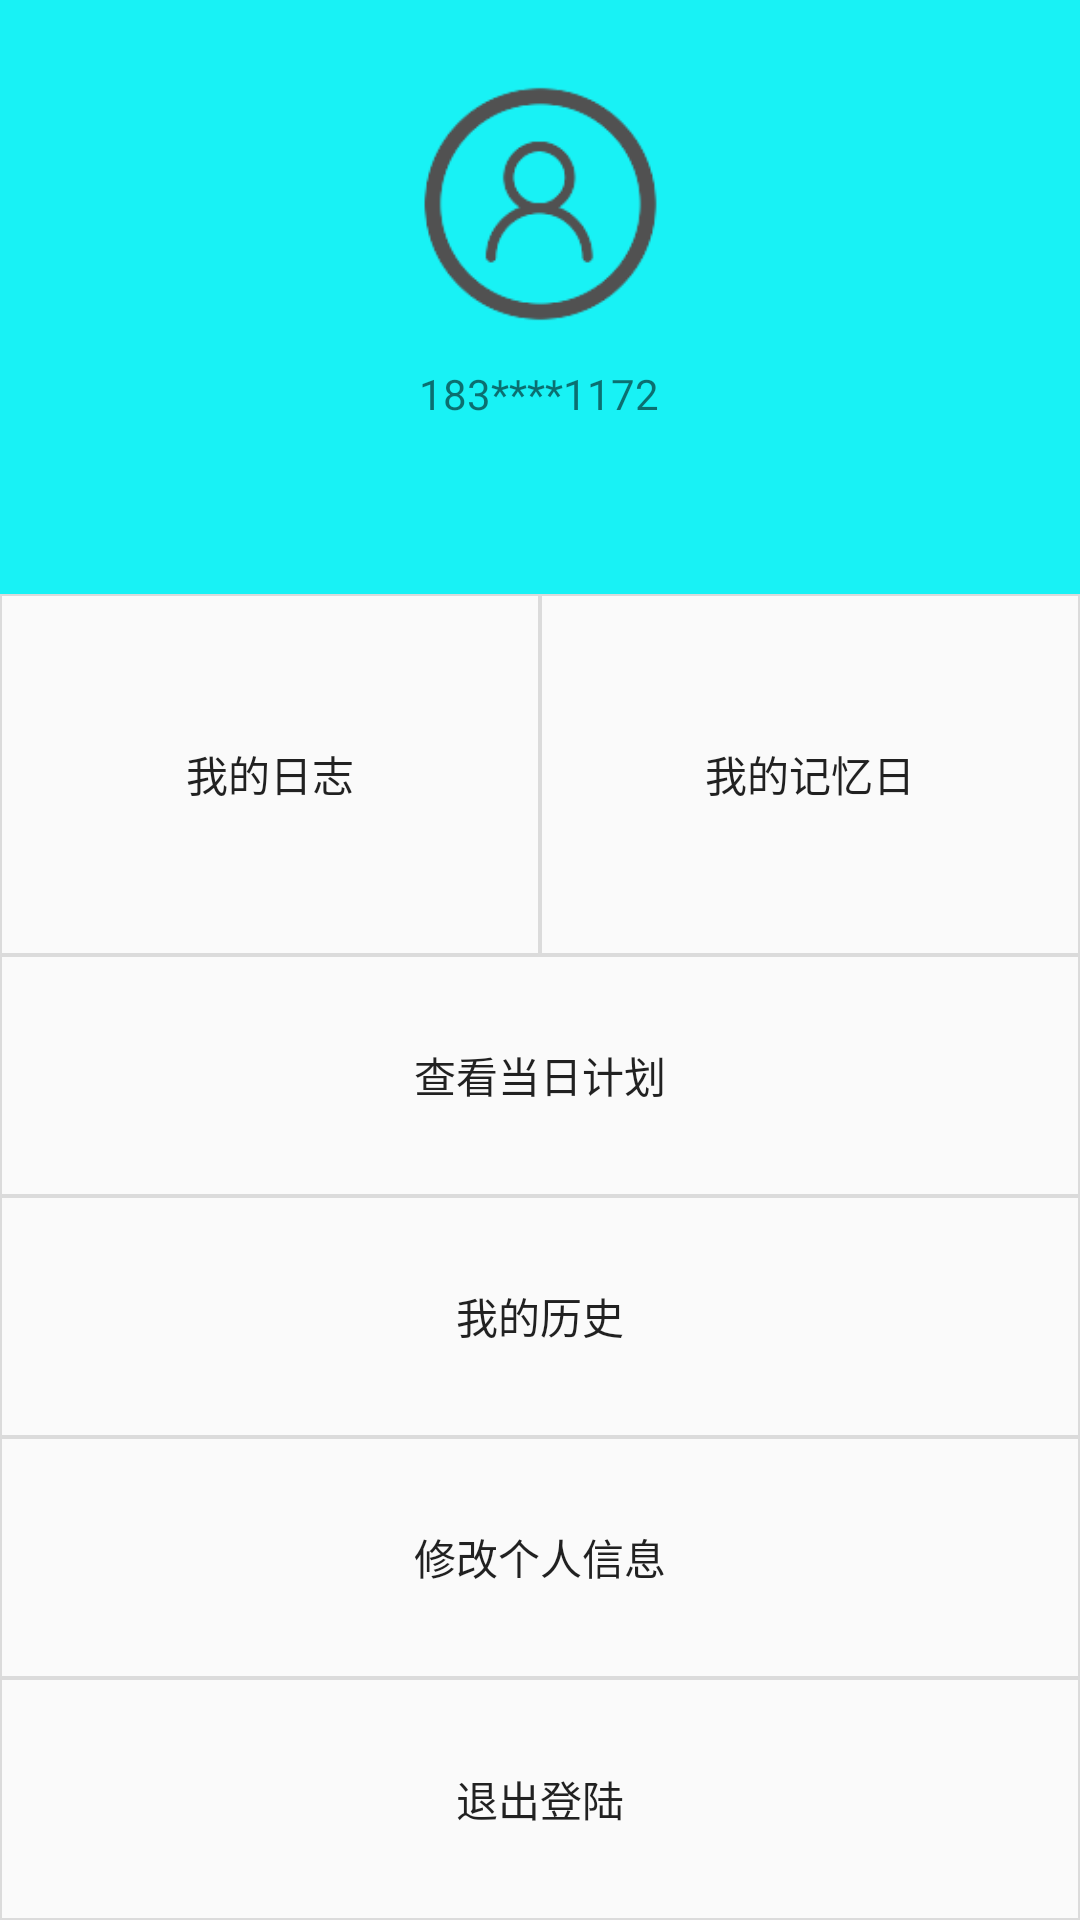

Screen size 1080px x 1920px. Icon name, then its center in pixels as point (x, y):
person: point (540, 204)
